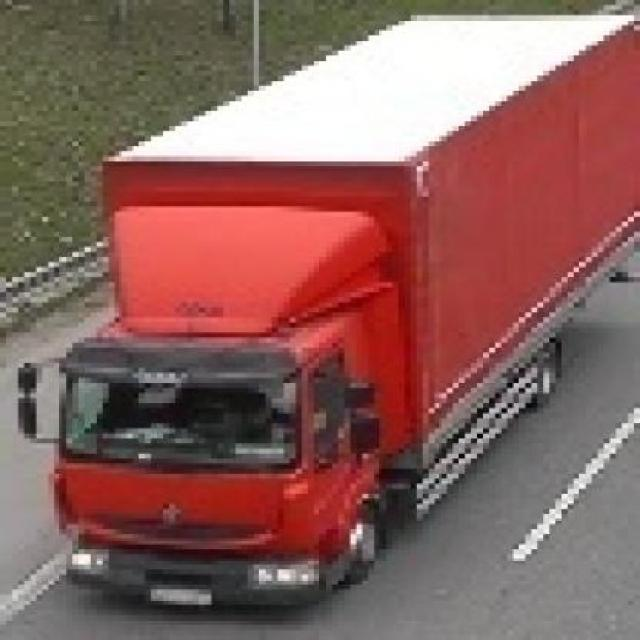truck: (26, 10, 640, 605)
